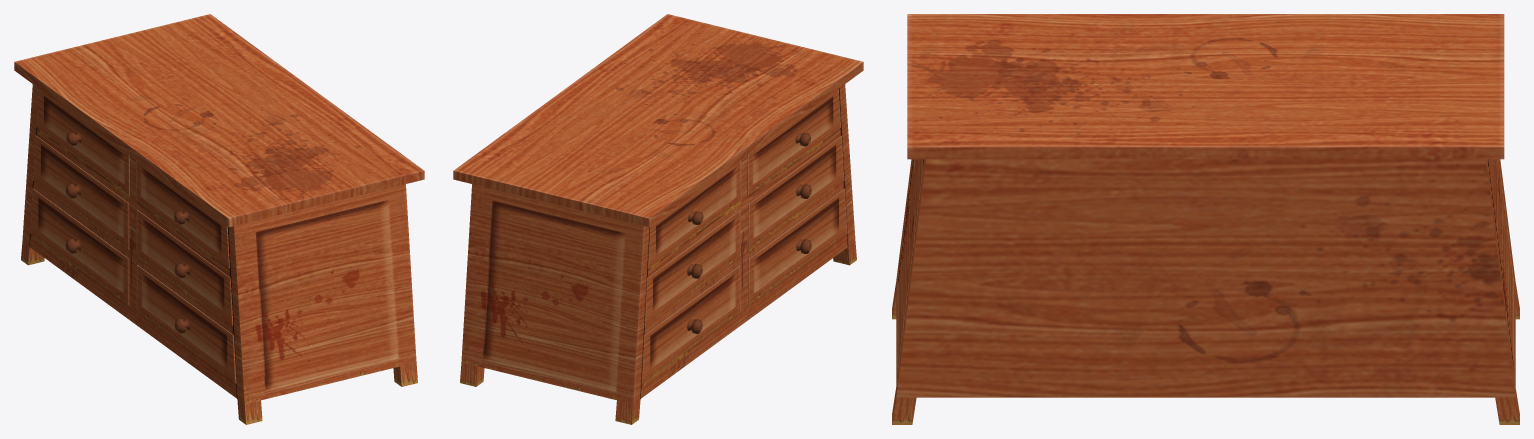
The model's file is chest.FBX.
The picture shows the model from 3 angles, left to right: view 1: azimuth 30°, elevation 25°; view 2: azimuth 150°, elevation 25°; view 3: azimuth 270°, elevation 25°; orthographic projection. The views are drawn at different scales.
Visible parts, largest first — view 1: Object002, Object008, Object003, Object007, Object004, Object006, Object005; view 2: Object002, Object003, Object008, Object004, Object007, Object005, Object006; view 3: Object002.
Part boxes in pixels (bbox=[...]): Object002: bbox=[14, 14, 424, 424]; Object008: bbox=[136, 264, 236, 383]; Object003: bbox=[30, 188, 129, 304]; Object007: bbox=[136, 209, 233, 325]; Object004: bbox=[33, 135, 129, 249]; Object006: bbox=[136, 160, 229, 268]; Object005: bbox=[36, 88, 129, 195]; Object002: bbox=[453, 14, 863, 424]; Object003: bbox=[641, 265, 740, 383]; Object008: bbox=[748, 189, 847, 305]; Object004: bbox=[644, 210, 740, 326]; Object007: bbox=[748, 136, 844, 250]; Object005: bbox=[647, 160, 741, 268]; Object006: bbox=[747, 89, 840, 195]; Object002: bbox=[892, 14, 1519, 424].
Size of the model in its own units: 32.48 by 32.5 by 64.67.
